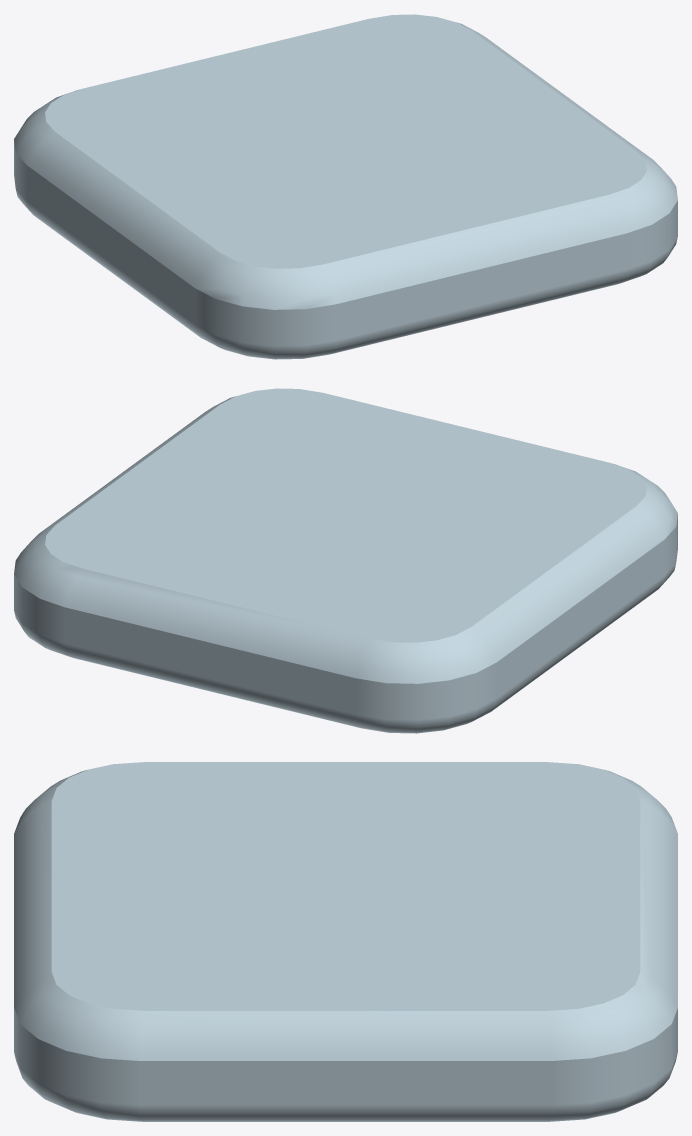
File: Object_button_03_01.fbx
The picture shows the model from 3 angles, top to bottom: view 1: azimuth 30°, elevation 25°; view 2: azimuth 150°, elevation 25°; view 3: azimuth 270°, elevation 25°; orthographic projection. The views are drawn at different scales.
Parts seen in each view (by area): view 1: main.003; view 2: main.003; view 3: main.003.
Boxes of the visible parts, x1=… form: main.003: x1=14, y1=14, x2=677, y2=359; main.003: x1=14, y1=388, x2=677, y2=733; main.003: x1=14, y1=762, x2=677, y2=1121.
Size of the model in its own units: 200 by 34.75 by 200.
